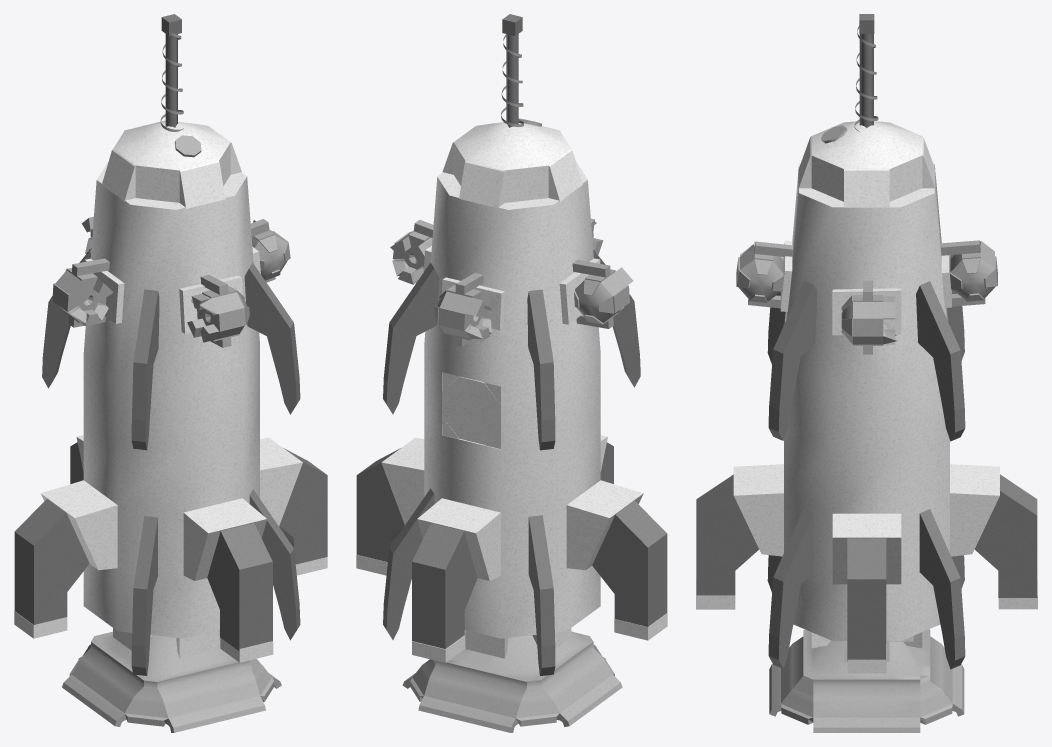
File: rocket_t5.obj
The picture shows the model from 3 angles, left to right: view 1: azimuth 30°, elevation 25°; view 2: azimuth 150°, elevation 25°; view 3: azimuth 270°, elevation 25°; orthographic projection.
Parts seen in each view (by area): view 1: Body_Rocket, Nozzle, Rocket_stabilizer2, Rocket_stabilizer4, CorrectedWind005, Rocket_stabilizer1, CorrectedWind008, CorrectedWind4, Cylinder005, Cylinder002, CorrectedWind1, CorrectedWind007 (+4 smaller); view 2: Body_Rocket, Nozzle, Rocket_stabilizer2, Rocket_stabilizer3, CorrectedWind006, Rocket_stabilizer1, CorrectedWind007, CorrectedWind3, GlassWindow, Cylinder001, Cylinder002, CorrectedWind2 (+5 smaller); view 3: Body_Rocket, Nozzle, Rocket_stabilizer3, Rocket_stabilizer4, Rocket_stabilizer1, CorrectedWind006, CorrectedWind005, CorrectedWind2, CorrectedWind1, Cylinder001, Cylinder004, Cylinder005 (+5 smaller).
Part boxes in pixels (x1,y1,x2,y2): Body_Rocket: [41, 120, 302, 658]; Nozzle: [62, 631, 281, 732]; Rocket_stabilizer2: [14, 499, 89, 624]; Rocket_stabilizer4: [207, 523, 272, 651]; CorrectedWind005: [244, 263, 300, 414]; Rocket_stabilizer1: [279, 448, 327, 564]; CorrectedWind008: [131, 289, 159, 450]; CorrectedWind4: [131, 516, 157, 675]; Cylinder005: [187, 274, 249, 347]; Cylinder002: [52, 258, 112, 327]; CorrectedWind1: [249, 489, 300, 640]; CorrectedWind007: [42, 248, 91, 388]; Body_Rocket: [381, 122, 643, 658]; Nozzle: [402, 631, 622, 732]; Rocket_stabilizer2: [592, 500, 667, 626]; Rocket_stabilizer3: [412, 523, 477, 648]; CorrectedWind006: [383, 262, 439, 414]; Rocket_stabilizer1: [356, 448, 404, 562]; CorrectedWind007: [527, 289, 555, 450]; CorrectedWind3: [528, 515, 555, 675]; GlassWindow: [442, 376, 500, 444]; Cylinder001: [434, 272, 497, 346]; Cylinder002: [572, 260, 633, 328]; CorrectedWind2: [383, 488, 434, 639]; Body_Rocket: [733, 121, 999, 661]; Nozzle: [769, 629, 964, 732]; Rocket_stabilizer3: [974, 474, 1037, 597]; Rocket_stabilizer4: [696, 474, 758, 595]; Rocket_stabilizer1: [847, 538, 886, 661]; CorrectedWind006: [916, 281, 965, 441]; CorrectedWind005: [768, 281, 817, 440]; CorrectedWind2: [919, 509, 965, 669]; CorrectedWind1: [768, 509, 813, 668]; Cylinder001: [940, 240, 997, 306]; Cylinder004: [841, 280, 896, 354]; Cylinder005: [736, 241, 792, 308].
Bounding box in the file's own units: 4.45 × 9.72 × 4.45.
